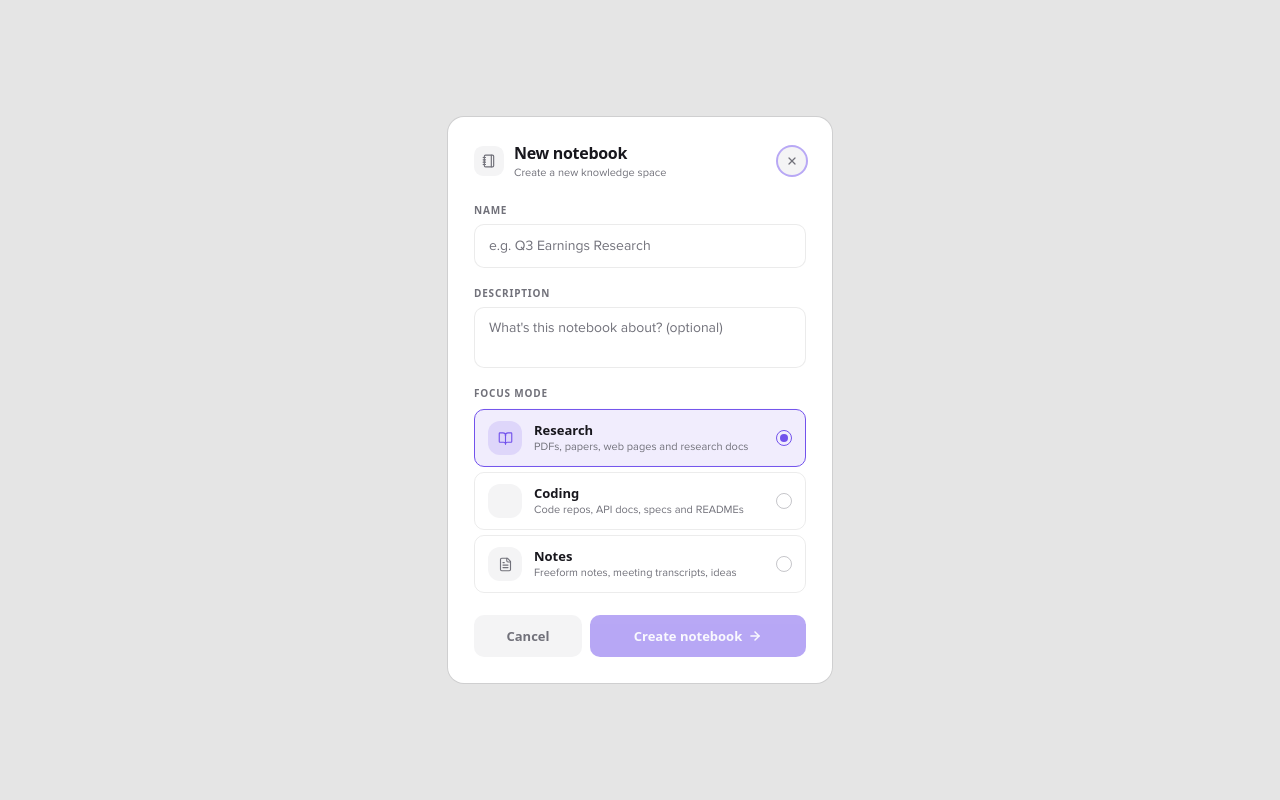
Test: NotebookCreateDialog — Create action › shows the store error inline and keeps dialog open when createNotebookAction returns null
In the field labelled "Name": (640, 246) [474,224,806,268], type "Test"
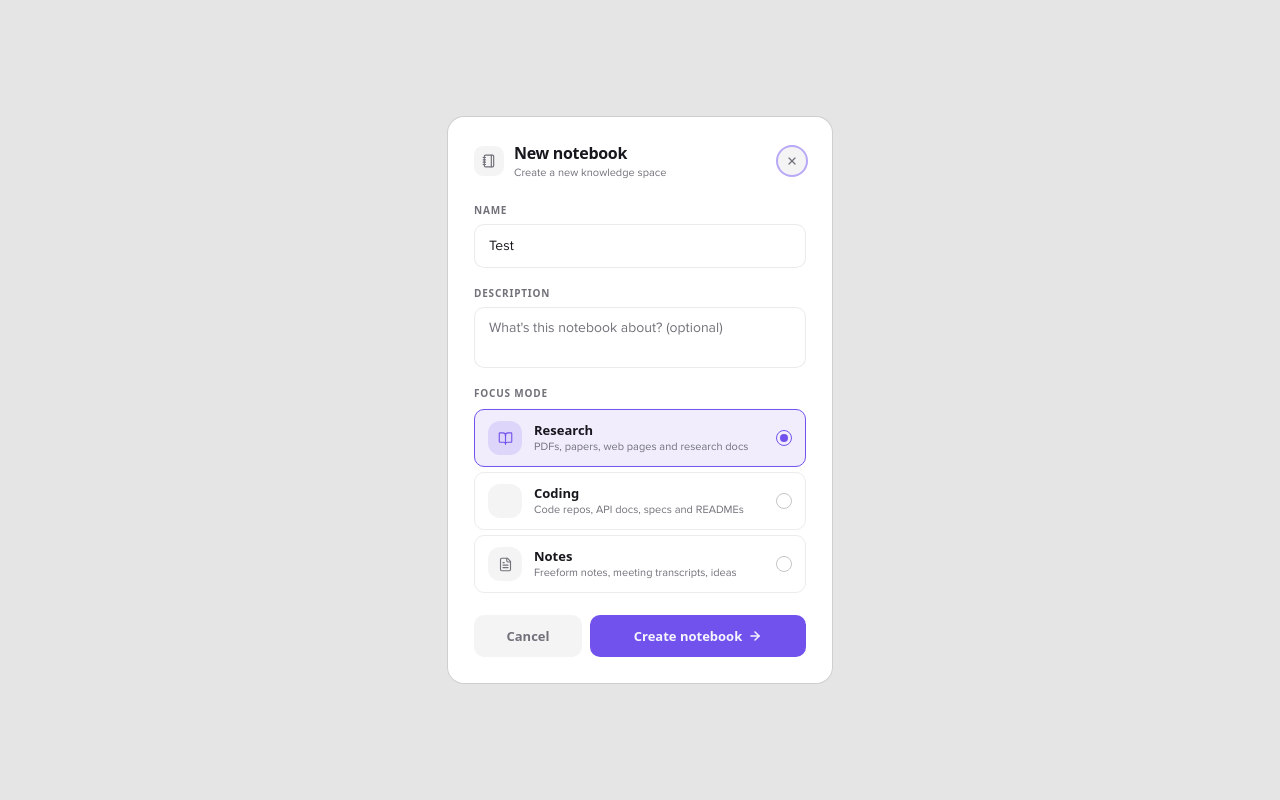
Click the button "Create notebook": (698, 636) [590,615,806,657]
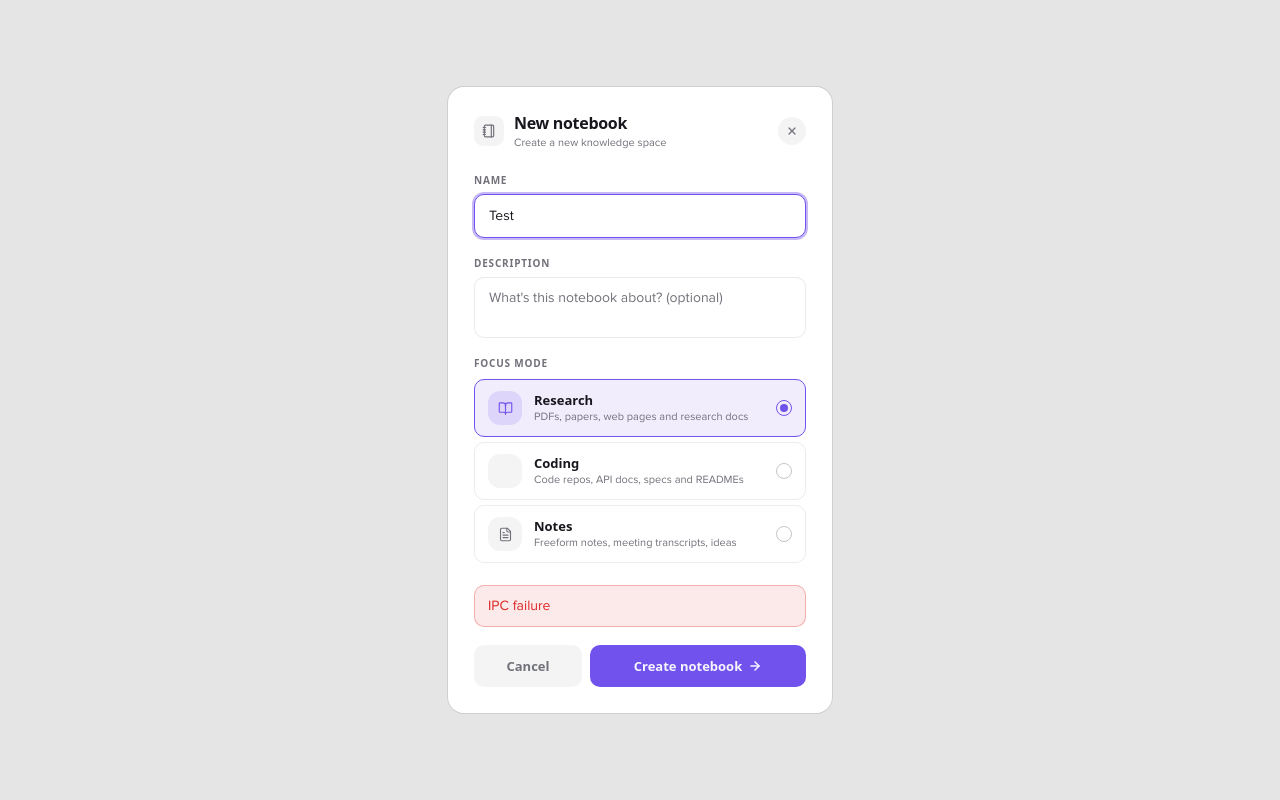
Expected: the message "IPC failure" is shown, [474,585,806,627]
Expected: the text "IPC failure" is shown, [488,596,550,616]
